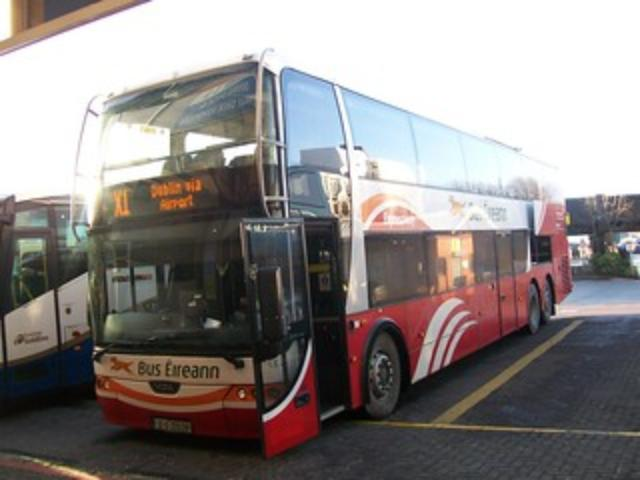bus: (74, 46, 568, 458)
